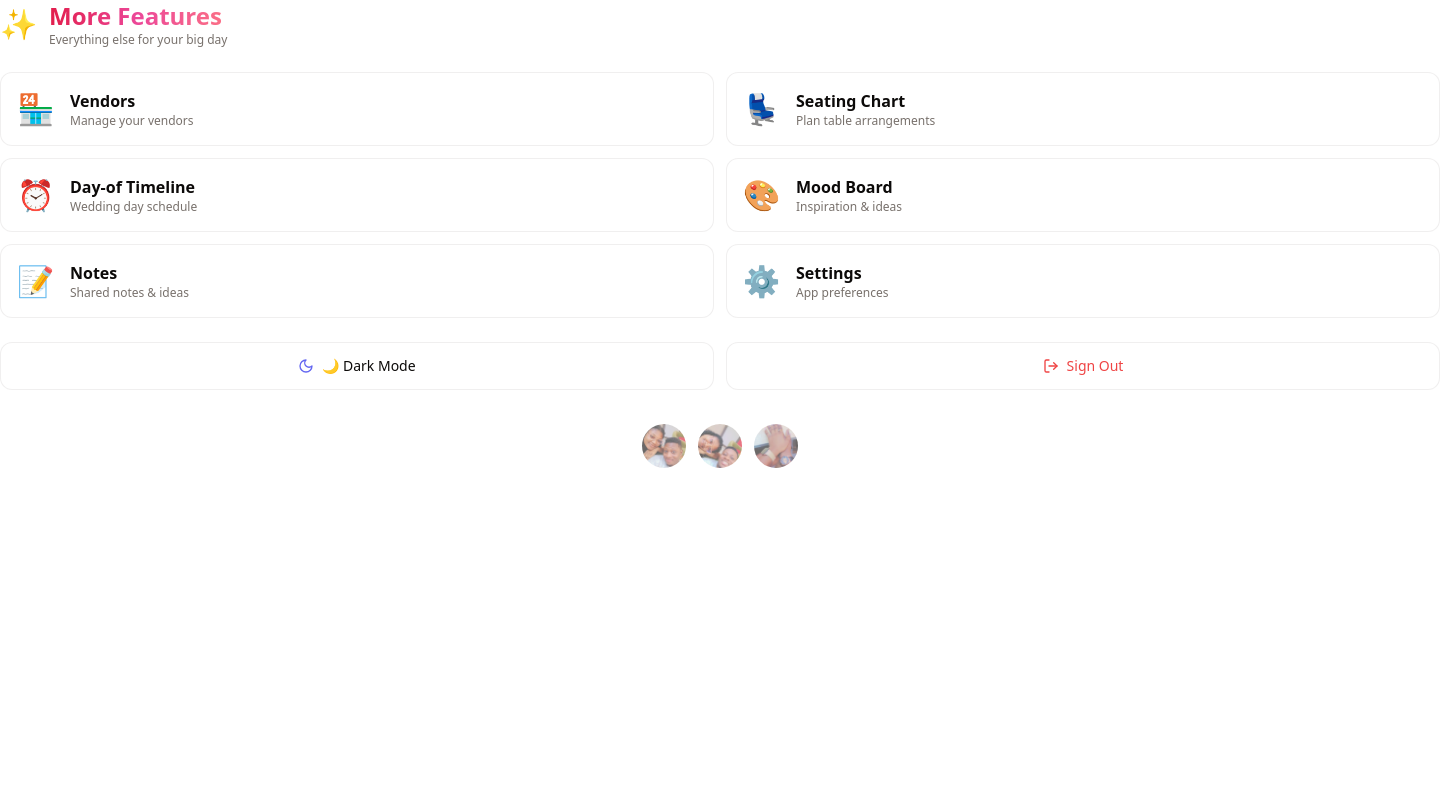
Test: MorePage › dark mode toggle › toggles to light mode
Step 1. Click the button "🌙 Dark Mode" → (357, 366), box [0,342,714,390]
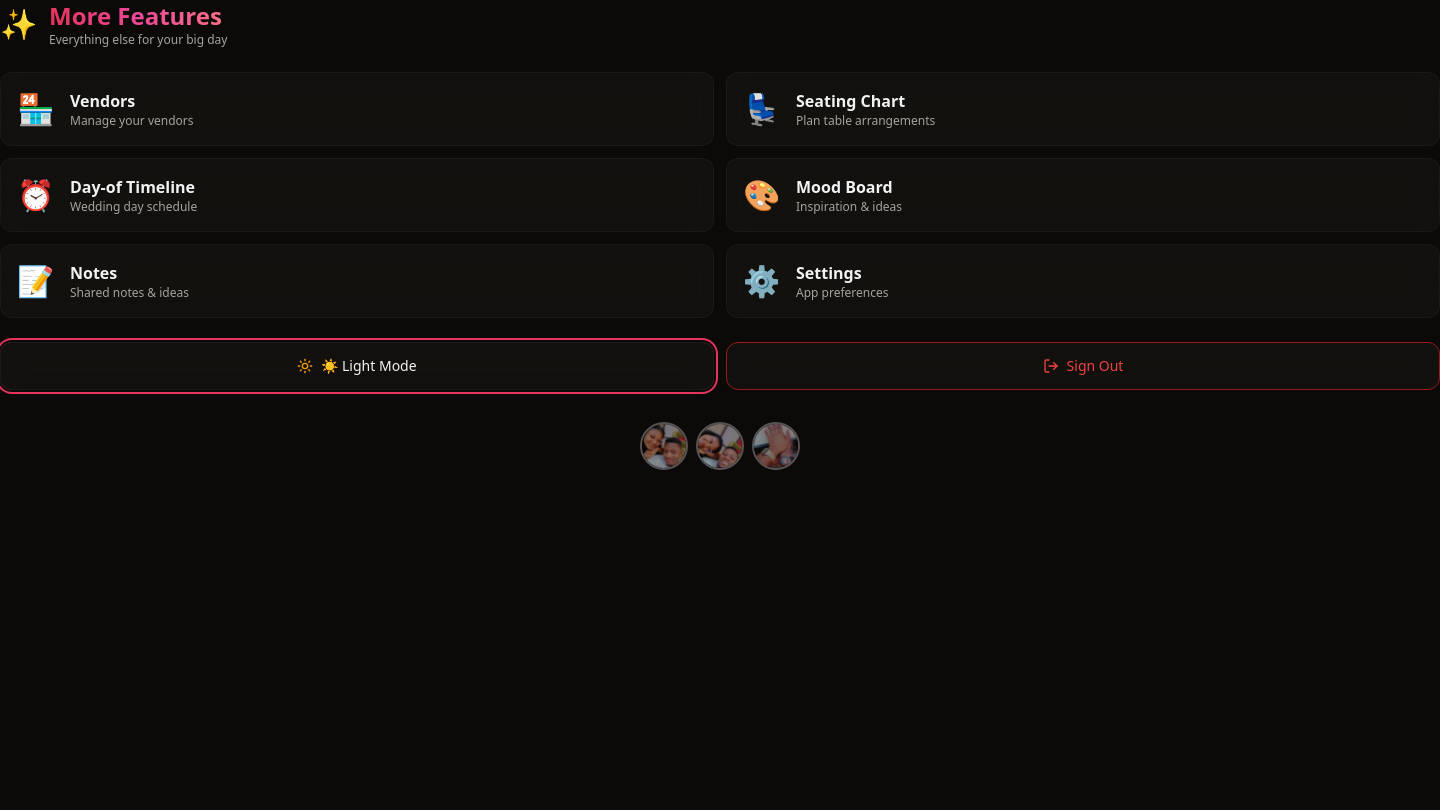
Check: the button "☀️ Light Mode" is shown, box [0,342,714,390]
